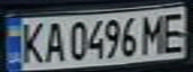0: (66, 18, 87, 62)
4: (87, 17, 106, 61)
6: (118, 15, 142, 57)
9: (103, 16, 124, 60)
A: (39, 18, 66, 64)
E: (157, 8, 193, 54)
K: (15, 19, 48, 65)
M: (139, 11, 172, 55)
